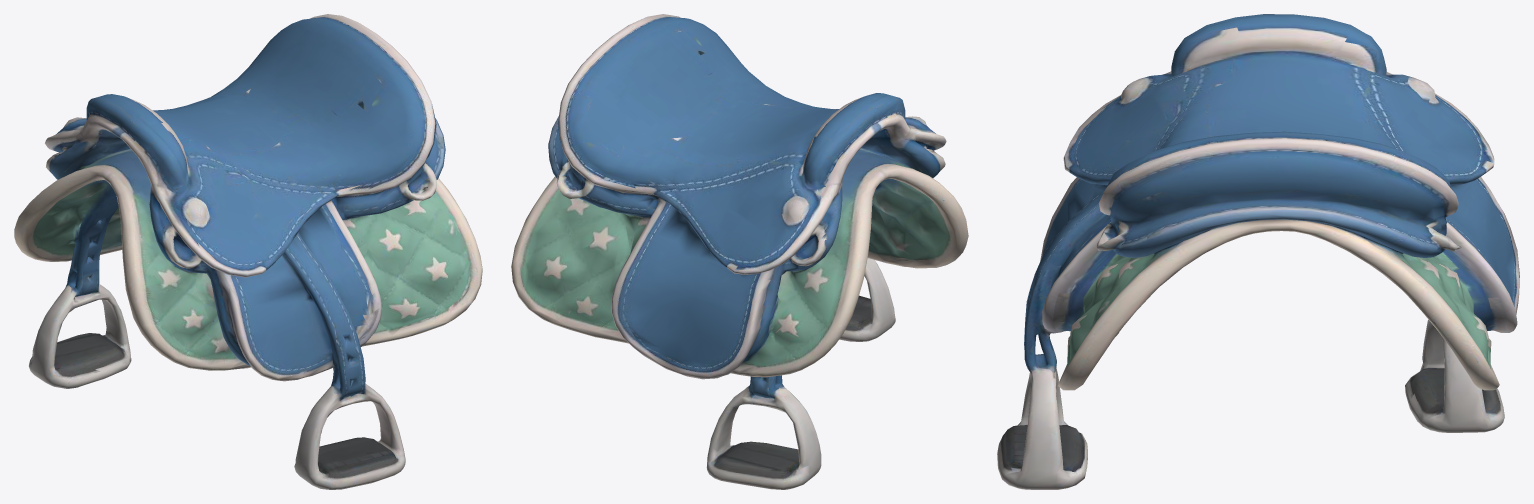
3 renders of one model, left to right at view 1: azimuth 30°, elevation 25°; view 2: azimuth 150°, elevation 25°; view 3: azimuth 270°, elevation 25°, orthographic. The views are drawn at different scales.
Parts seen in each view (by area): view 1: saddle-blue; view 2: saddle-blue; view 3: saddle-blue.
Part boxes in pixels (box(x1,y1,x2,y2)): saddle-blue: box(14, 14, 482, 489); saddle-blue: box(511, 14, 968, 489); saddle-blue: box(997, 14, 1519, 489).
Size of the model in its own units: 0.2809 by 0.2794 by 0.3315.
1 material, 1 textured.
